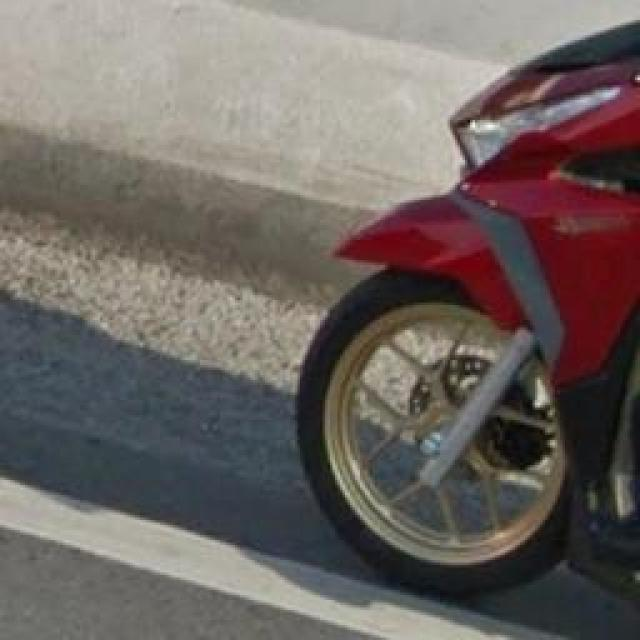motorcycle: (294, 22, 638, 602)
